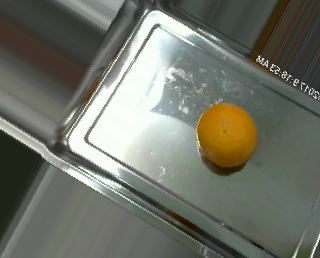Orange: (197, 102, 260, 168)
